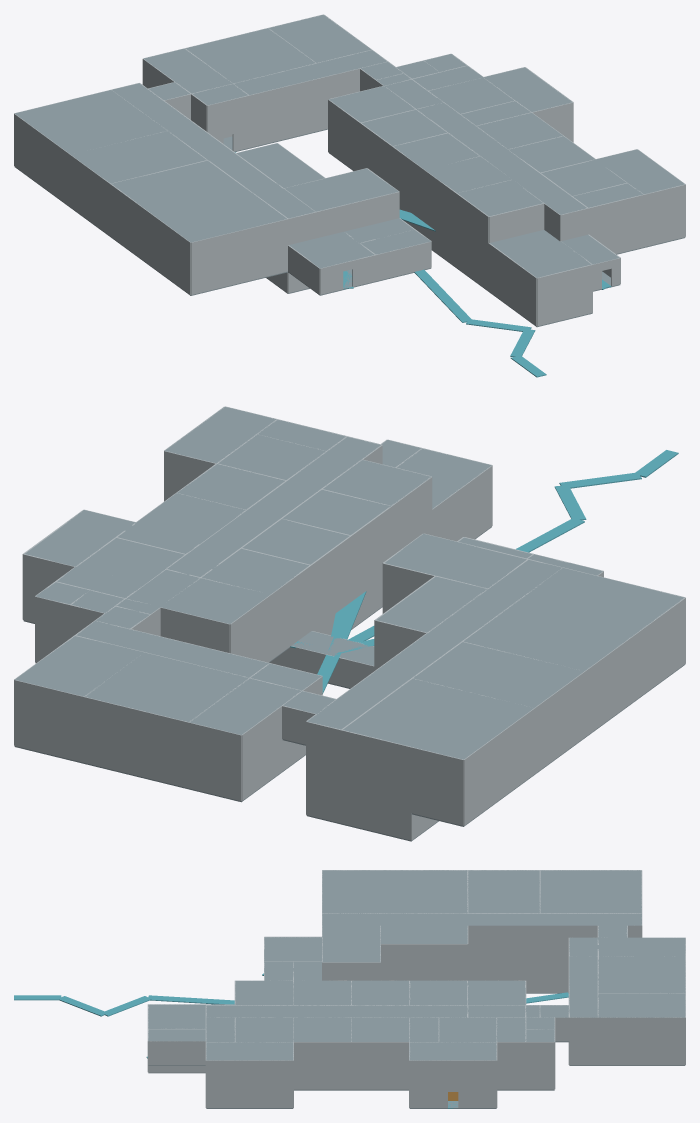
File: rough-shell.glb
3 renders of one model, top to bottom at view 1: azimuth 30°, elevation 25°; view 2: azimuth 150°, elevation 25°; view 3: azimuth 270°, elevation 25°, orthographic. The views are drawn at different scales.
Parts seen in each view (by area): view 1: Ceiling cap lecture, Ceiling cap project, Wall lecture S, Ceiling cap upper-teaching, Wall lecture W, Ceiling cap upper-stacks, Ceiling cap upper-res-hall, Ceiling cap upper-seminar, Wall bridge-lobby S, Ceiling cap tutorial, Ceiling cap upper-reading, Wall tutorial S (+56 smaller); view 2: Ceiling cap lecture, Ceiling cap project, Ceiling cap upper-teaching, Wall lecture W, Ceiling cap upper-stacks, Ceiling cap upper-res-hall, Ceiling cap upper-seminar, Wall project N, Ceiling cap upper-reading, Ceiling cap tutorial, Wall upper-stacks N, Ceiling cap bridge-lobby (+65 smaller); view 3: Ceiling cap lecture, Ceiling cap project, Ceiling cap upper-teaching, Ceiling cap upper-res-hall, Ceiling cap upper-stacks, Ceiling cap upper-seminar, Wall upper-teaching E.001, Wall teaching-hall E, Ceiling cap tutorial, Wall upper-reading E, Wall upper-south-stair E, Wall upper-north-stair E (+49 smaller).
Part boxes in pixels (x1=…): Ceiling cap lecture: x1=111, y1=160, x2=286, y2=242; Ceiling cap project: x1=15, y1=90, x2=166, y2=154; Wall lecture S: x1=191, y1=218, x2=288, y2=294; Ceiling cap upper-teaching: x1=112, y1=83, x2=314, y2=218; Wall lecture W: x1=110, y1=184, x2=190, y2=294; Ceiling cap upper-stacks: x1=186, y1=28, x2=315, y2=83; Ceiling cap upper-res-hall: x1=417, y1=102, x2=586, y2=214; Ceiling cap upper-seminar: x1=71, y1=131, x2=206, y2=183; Wall bridge-lobby S: x1=249, y1=66, x2=368, y2=121; Ceiling cap tutorial: x1=284, y1=168, x2=398, y2=211; Ceiling cap upper-reading: x1=269, y1=15, x2=370, y2=62; Wall tutorial S: x1=316, y1=192, x2=399, y2=238; Ceiling cap lecture: x1=463, y1=568, x2=684, y2=671; Ceiling cap project: x1=343, y1=678, x2=533, y2=759; Ceiling cap upper-teaching: x1=307, y1=559, x2=562, y2=729; Wall lecture W: x1=585, y1=597, x2=685, y2=736; Ceiling cap upper-stacks: x1=85, y1=652, x2=248, y2=721; Ceiling cap upper-res-hall: x1=167, y1=437, x2=380, y2=576; Ceiling cap upper-seminar: x1=413, y1=642, x2=583, y2=707; Wall project N: x1=341, y1=730, x2=463, y2=792; Ceiling cap upper-reading: x1=15, y1=636, x2=144, y2=696; Ceiling cap tutorial: x1=385, y1=533, x2=526, y2=588; Wall upper-stacks N: x1=84, y1=697, x2=188, y2=755; Ceiling cap bridge-lobby: x1=76, y1=621, x2=268, y2=677; Ceiling cap lecture: x1=322, y1=870, x2=467, y2=913; Ceiling cap project: x1=540, y1=870, x2=641, y2=912; Ceiling cap upper-teaching: x1=322, y1=913, x2=641, y2=925; Ceiling cap upper-res-hall: x1=206, y1=1005, x2=467, y2=1017; Ceiling cap upper-stacks: x1=598, y1=956, x2=685, y2=992; Ceiling cap upper-seminar: x1=467, y1=870, x2=539, y2=912; Wall upper-teaching E.001: x1=468, y1=925, x2=597, y2=949; Wall teaching-hall E: x1=468, y1=949, x2=568, y2=972; Ceiling cap tutorial: x1=322, y1=925, x2=380, y2=962; Wall upper-reading E: x1=598, y1=1017, x2=685, y2=1041; Wall upper-south-stair E: x1=206, y1=1060, x2=293, y2=1084; Wall upper-north-stair E: x1=409, y1=1060, x2=496, y2=1084.
Bounding box in the file's own units: 62.16 × 10.36 × 92.58.
